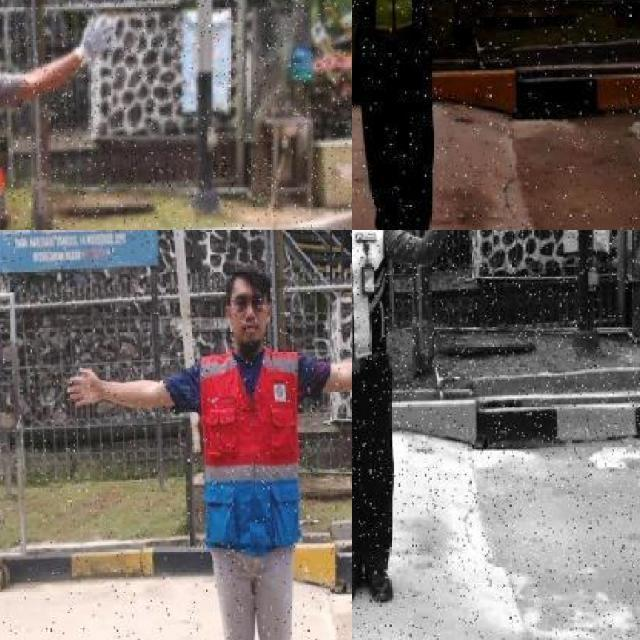apron: (72, 9, 120, 78)
